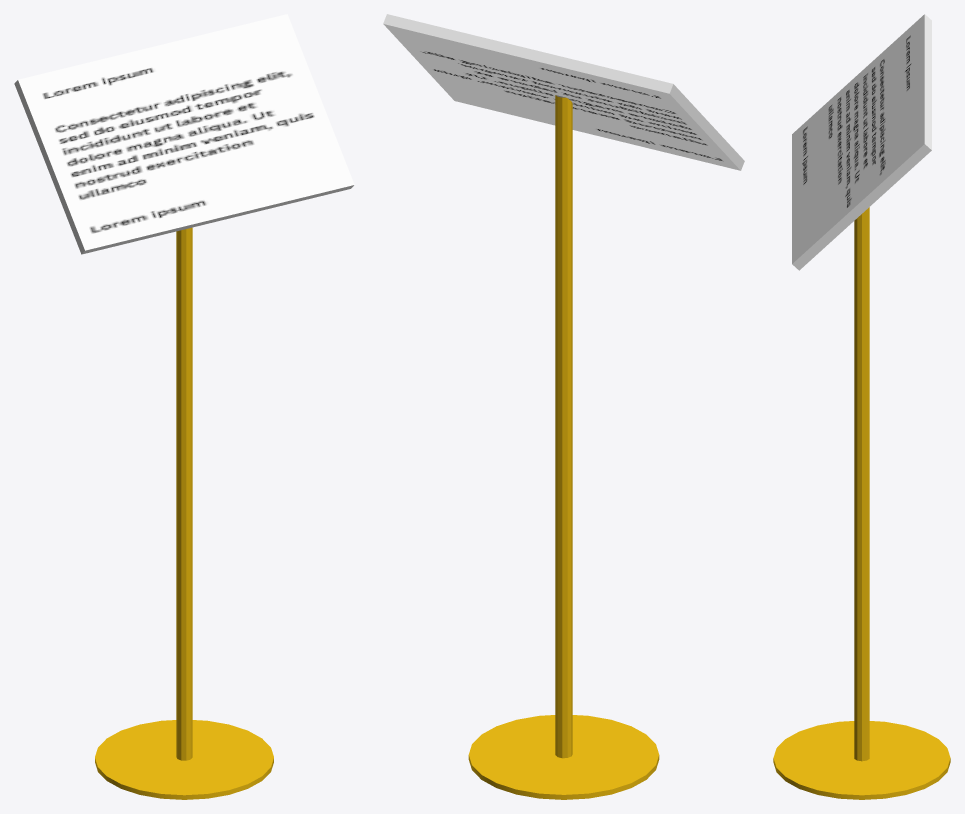
The model's file is Renai_InfoStand.fbx.
3 renders of one model, left to right at view 1: azimuth 30°, elevation 25°; view 2: azimuth 150°, elevation 25°; view 3: azimuth 270°, elevation 25°, orthographic. The views are drawn at different scales.
Parts seen in each view (by area): view 1: infoDisplay, infoDisc, infoStick; view 2: infoDisplay, infoDisc, infoStick; view 3: infoDisplay, infoDisc, infoStick.
Boxes of the visible parts, bbox=[...] form: infoDisplay: bbox=[14, 14, 354, 254]; infoDisc: bbox=[95, 720, 273, 799]; infoStick: bbox=[176, 227, 192, 760]; infoDisplay: bbox=[383, 14, 744, 170]; infoDisc: bbox=[468, 715, 659, 799]; infoStick: bbox=[555, 95, 572, 758]; infoDisplay: bbox=[792, 14, 931, 270]; infoDisc: bbox=[773, 721, 950, 799]; infoStick: bbox=[854, 207, 869, 761].
Size of the model in its own units: 2.38 by 5.84 by 1.37.
